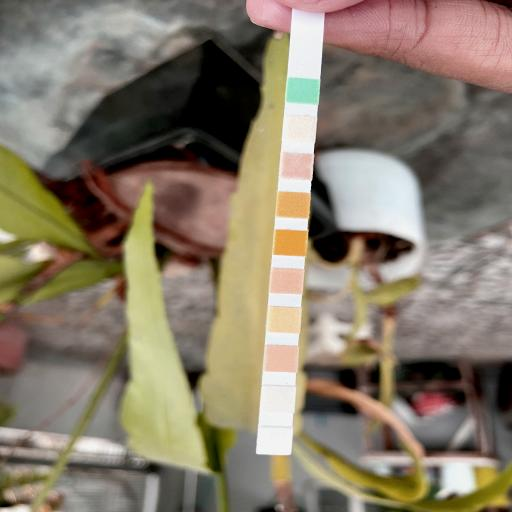Bilirubin: (284, 118, 315, 142)
Blood: (274, 232, 306, 255)
Glucose: (287, 79, 319, 103)
Ketone: (280, 154, 312, 178)
Leukocytes: (258, 428, 291, 454)
Nitrite: (262, 387, 294, 411)
Protein: (268, 308, 300, 332)
SpGravity: (277, 192, 309, 218)
Urobilinogen: (265, 347, 297, 371)
pH: (272, 269, 302, 293)
strip: (256, 16, 324, 455)
